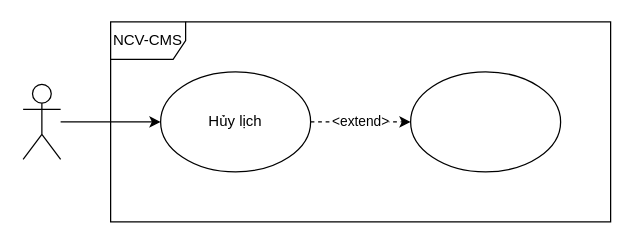
The diagram is 633 pixels wide and 244 high, and some of its shapes have lost their labels. Each missing label, with the centre of its shape:
Lễ tân: the point at 41,121
Thông báo lỗi: the point at 485,121
